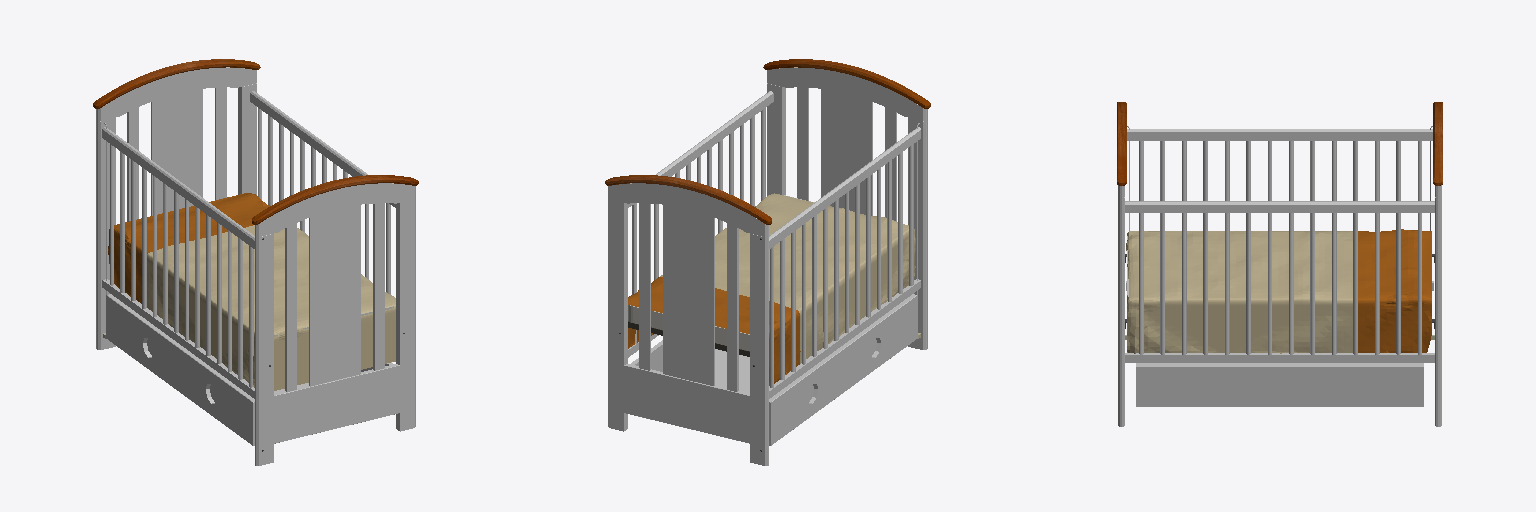
3 renders of one model, left to right at view 1: azimuth 30°, elevation 25°; view 2: azimuth 150°, elevation 25°; view 3: azimuth 270°, elevation 25°, orthographic.
Visible parts, largest first — view 1: base.001_Cube.006, Plane.004, box.001_Cube.009; view 2: base.001_Cube.006, Plane.004, box.001_Cube.009, Cube.006_Cube.010, mattress.001_Cube.007; view 3: base.001_Cube.006, Plane.004, Cube.006_Cube.010.
Boxes of the visible parts, <box> form: base.001_Cube.006: <box>93,59,418,465</box>; Plane.004: <box>108,193,395,390</box>; box.001_Cube.009: <box>106,294,254,445</box>; base.001_Cube.006: <box>605,59,930,465</box>; Plane.004: <box>628,193,915,385</box>; box.001_Cube.009: <box>769,294,917,445</box>; Cube.006_Cube.010: <box>631,340,749,392</box>; mattress.001_Cube.007: <box>628,195,814,350</box>; base.001_Cube.006: <box>1117,102,1442,426</box>; Plane.004: <box>1126,229,1431,353</box>; Cube.006_Cube.010: <box>1136,363,1423,406</box>.
Bounding box in the file's own units: 0.5856 × 0.8923 × 1.
Materials: 13 (1 with a texture image).